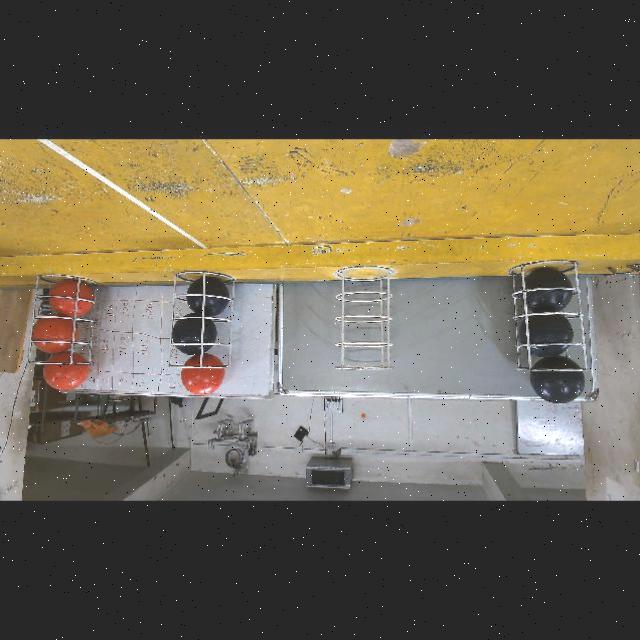P: (530, 356, 584, 403), (525, 267, 573, 312), (528, 313, 574, 357), (172, 313, 217, 356), (187, 275, 229, 317)
R: (180, 353, 226, 395), (43, 351, 89, 390), (48, 279, 94, 317), (32, 317, 78, 353)
S: (512, 258, 588, 372), (335, 257, 391, 377), (166, 274, 228, 374), (28, 274, 92, 360)
